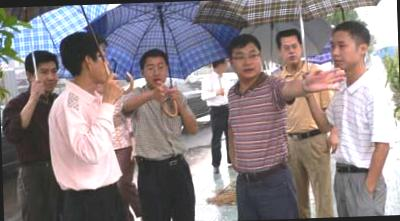no_helmet: (60, 31, 106, 92), (327, 16, 374, 74), (18, 44, 62, 95), (225, 27, 265, 80), (135, 44, 172, 88), (273, 23, 305, 70)
